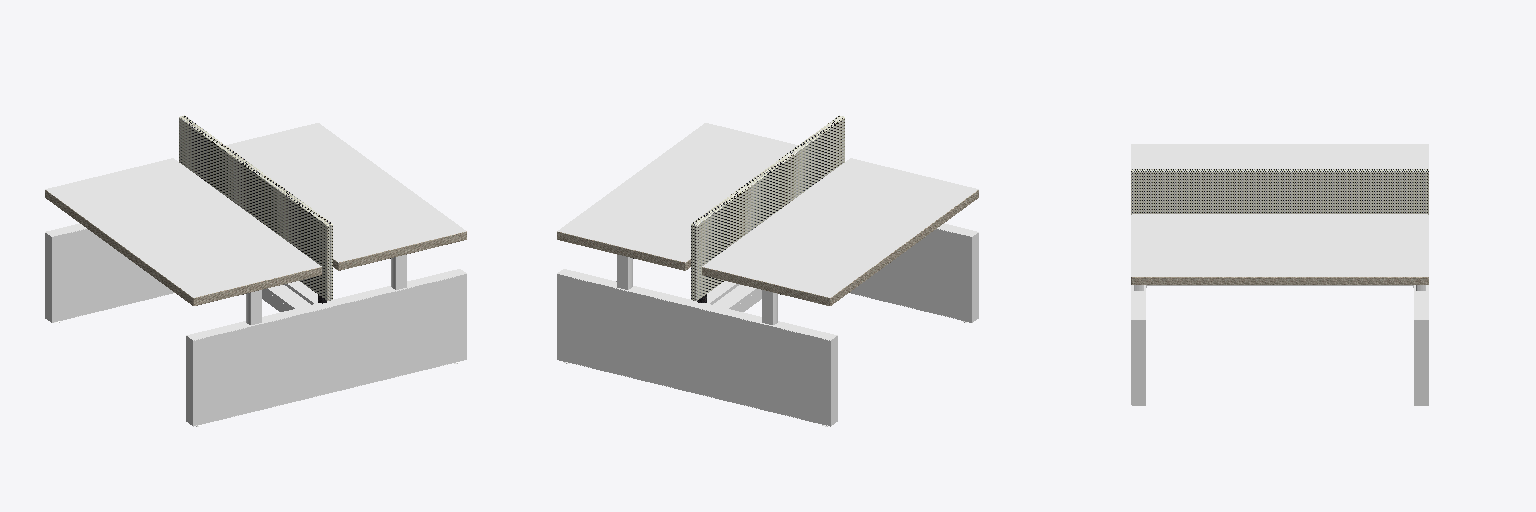
The picture shows the model from 3 angles: view 1: azimuth 30°, elevation 25°; view 2: azimuth 150°, elevation 25°; view 3: azimuth 270°, elevation 25°; orthographic projection.
Parts seen in each view (by area): view 1: mesh16_mesh16-geometry, mesh43_mesh43-geometry, mesh31_mesh31-geometry, mesh54_mesh54-geometry, mesh7_mesh7-geometry, mesh14_mesh14-geometry, mesh42_mesh42-geometry, mesh30_mesh30-geometry, mesh5_mesh5-geometry, mesh55_mesh55-geometry; view 2: mesh6_mesh6-geometry, mesh43_mesh43-geometry, mesh31_mesh31-geometry, mesh54_mesh54-geometry, mesh15_mesh15-geometry, mesh5_mesh5-geometry, mesh42_mesh42-geometry, mesh30_mesh30-geometry, mesh14_mesh14-geometry, mesh55_mesh55-geometry; view 3: mesh31_mesh31-geometry, mesh55_mesh55-geometry, mesh43_mesh43-geometry, mesh30_mesh30-geometry, mesh5_mesh5-geometry, mesh14_mesh14-geometry, mesh54_mesh54-geometry.
Boxes of the visible parts, x1,y1,x2,y2 form: mesh16_mesh16-geometry: [194, 274, 466, 425]; mesh43_mesh43-geometry: [45, 158, 321, 297]; mesh31_mesh31-geometry: [226, 123, 465, 262]; mesh54_mesh54-geometry: [179, 116, 329, 300]; mesh7_mesh7-geometry: [52, 229, 173, 322]; mesh14_mesh14-geometry: [186, 269, 466, 426]; mesh42_mesh42-geometry: [45, 190, 321, 305]; mesh30_mesh30-geometry: [333, 231, 466, 270]; mesh5_mesh5-geometry: [45, 223, 172, 322]; mesh55_mesh55-geometry: [182, 115, 332, 300]; mesh6_mesh6-geometry: [557, 274, 829, 425]; mesh43_mesh43-geometry: [702, 158, 978, 297]; mesh31_mesh31-geometry: [558, 123, 797, 262]; mesh54_mesh54-geometry: [694, 116, 844, 300]; mesh15_mesh15-geometry: [850, 229, 971, 322]; mesh5_mesh5-geometry: [557, 269, 837, 426]; mesh42_mesh42-geometry: [702, 190, 978, 305]; mesh30_mesh30-geometry: [557, 231, 690, 270]; mesh14_mesh14-geometry: [851, 223, 978, 322]; mesh55_mesh55-geometry: [691, 115, 841, 300]; mesh31_mesh31-geometry: [1131, 214, 1428, 276]; mesh55_mesh55-geometry: [1131, 171, 1428, 214]; mesh43_mesh43-geometry: [1131, 144, 1428, 168]; mesh30_mesh30-geometry: [1131, 277, 1428, 284]; mesh5_mesh5-geometry: [1414, 285, 1428, 405]; mesh14_mesh14-geometry: [1132, 285, 1145, 405]; mesh54_mesh54-geometry: [1131, 169, 1428, 170].
Size of the model in its own units: 0.6679 by 0.3986 by 0.6286.
6 materials, 4 textured.